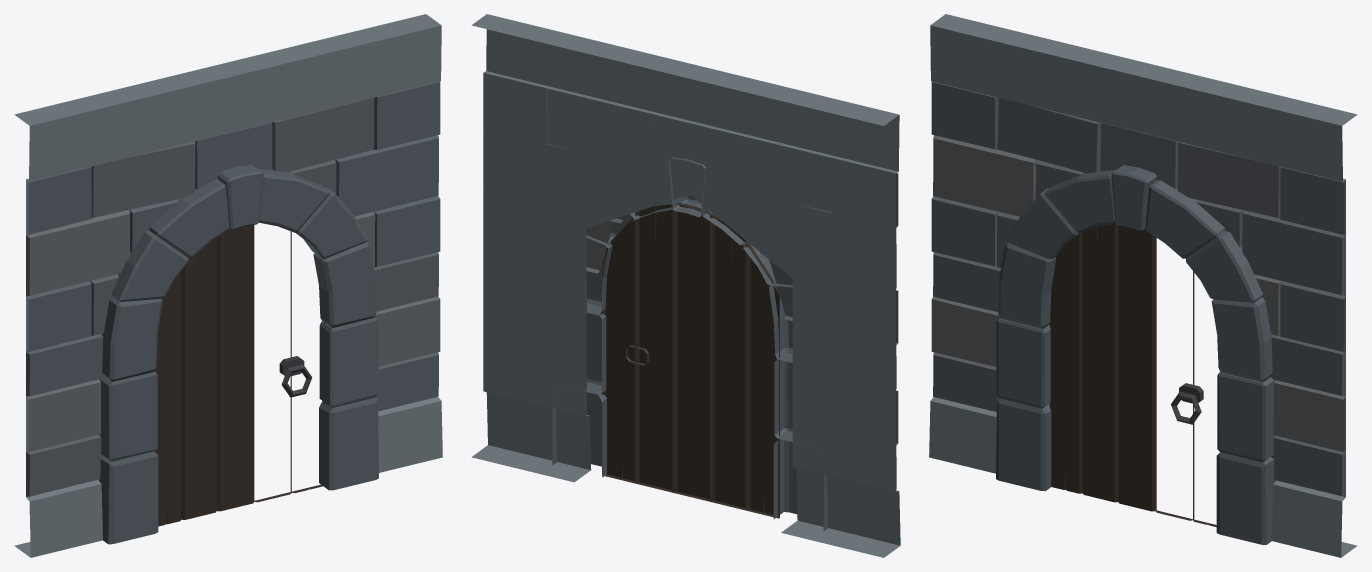
The model's file is Wall_Archway_Door.fbx.
3 views of the same model, side by side, from view 1: azimuth 30°, elevation 25°; view 2: azimuth 150°, elevation 25°; view 3: azimuth 330°, elevation 25° (orthographic).
Visible parts, largest first — view 1: Wall_Archway_Door; view 2: Wall_Archway_Door; view 3: Wall_Archway_Door.
Part boxes in pixels (x1=…): Wall_Archway_Door: x1=14, y1=14, x2=442, y2=557; Wall_Archway_Door: x1=471, y1=14, x2=900, y2=557; Wall_Archway_Door: x1=929, y1=14, x2=1357, y2=557.
Bounding box in the file's own units: 200 × 200 × 20.54.
